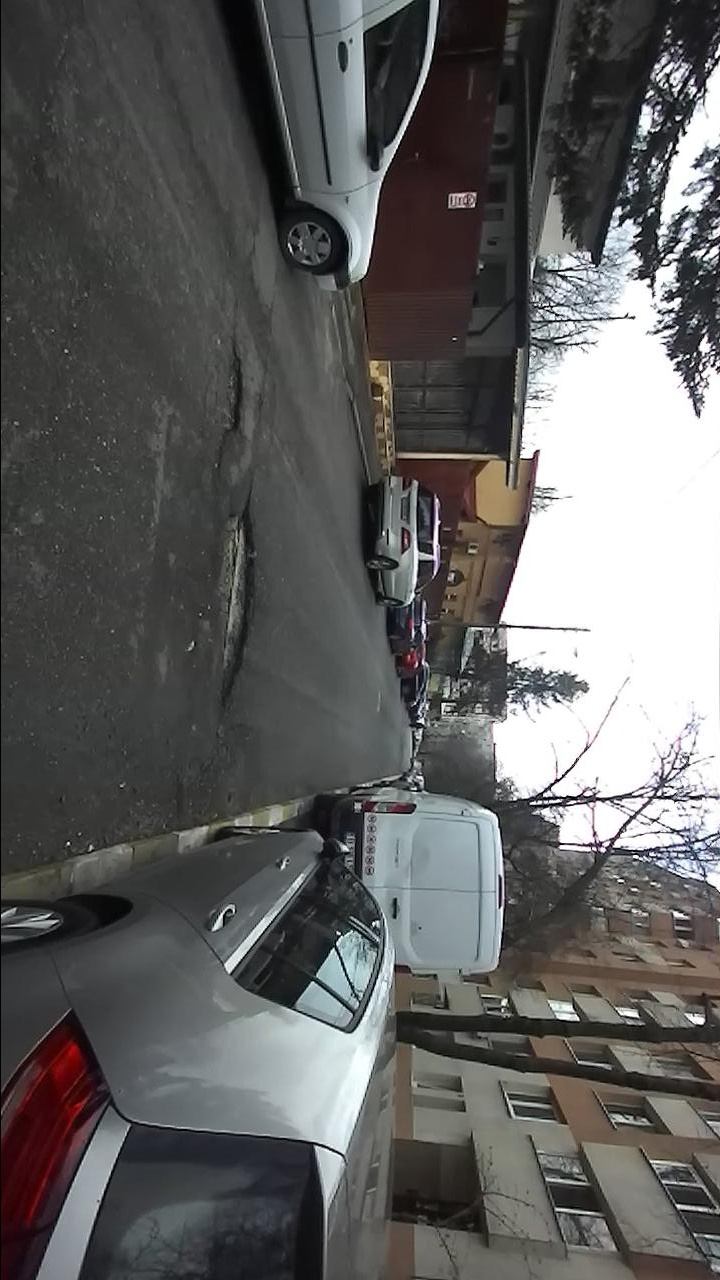pothole: (210, 482, 259, 714), (207, 334, 246, 475)
